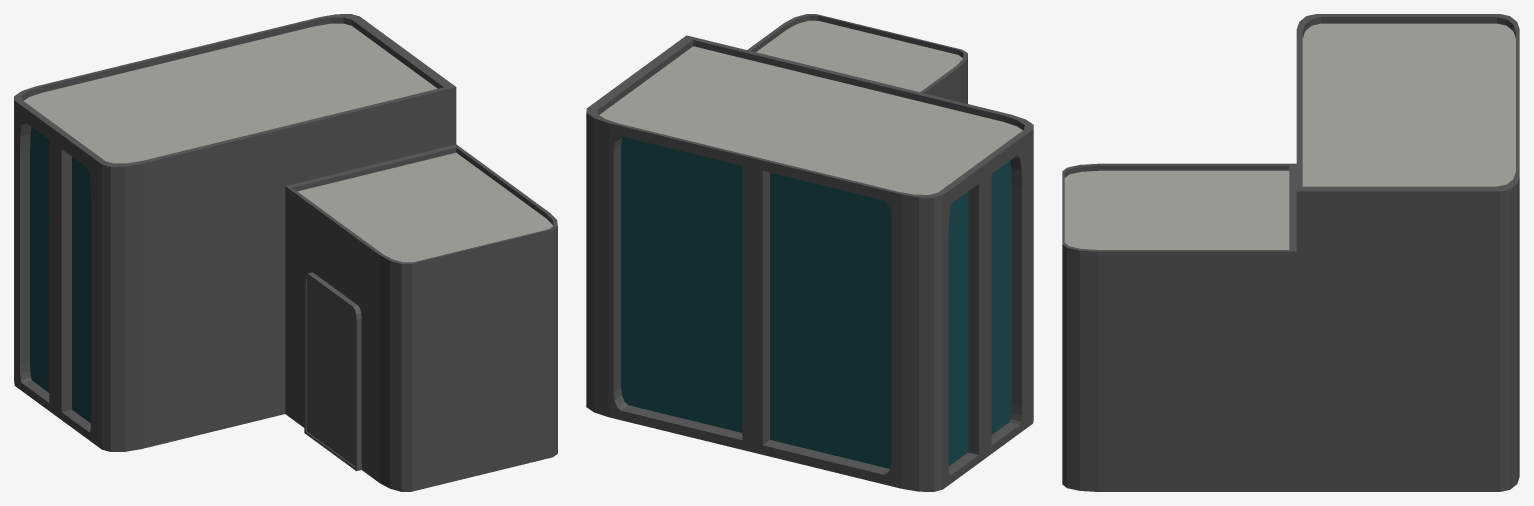
Rendered from Residence2.fbx.
3 views of the same model, side by side, from view 1: azimuth 30°, elevation 25°; view 2: azimuth 150°, elevation 25°; view 3: azimuth 270°, elevation 25° (orthographic). The views are drawn at different scales.
Visible parts, largest first — view 1: Cube.001, Cube; view 2: Cube.001; view 3: Cube.001.
Boxes of the visible parts, x1=… form: Cube.001: x1=14, y1=14, x2=557, y2=491; Cube: x1=304, y1=272, x2=361, y2=471; Cube.001: x1=586, y1=14, x2=1033, y2=491; Cube.001: x1=1062, y1=14, x2=1519, y2=491.
Bounding box in the file's own units: 1375 × 1086 × 1499.
